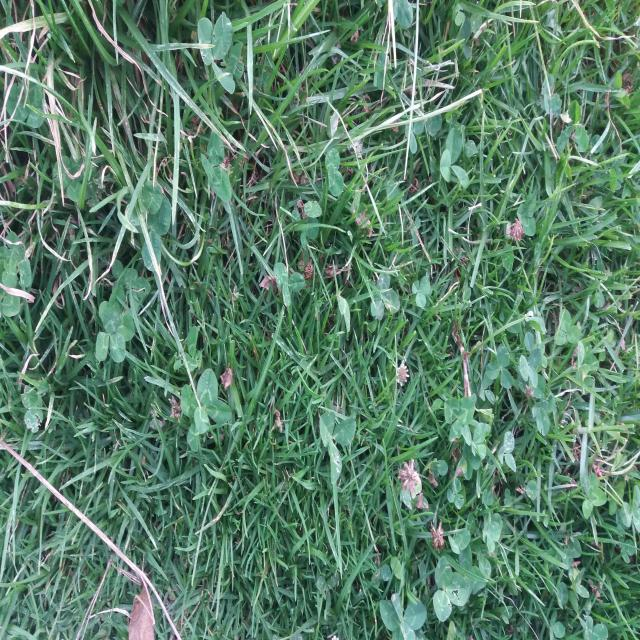Four Leaf Clover: (482, 513, 501, 552)
